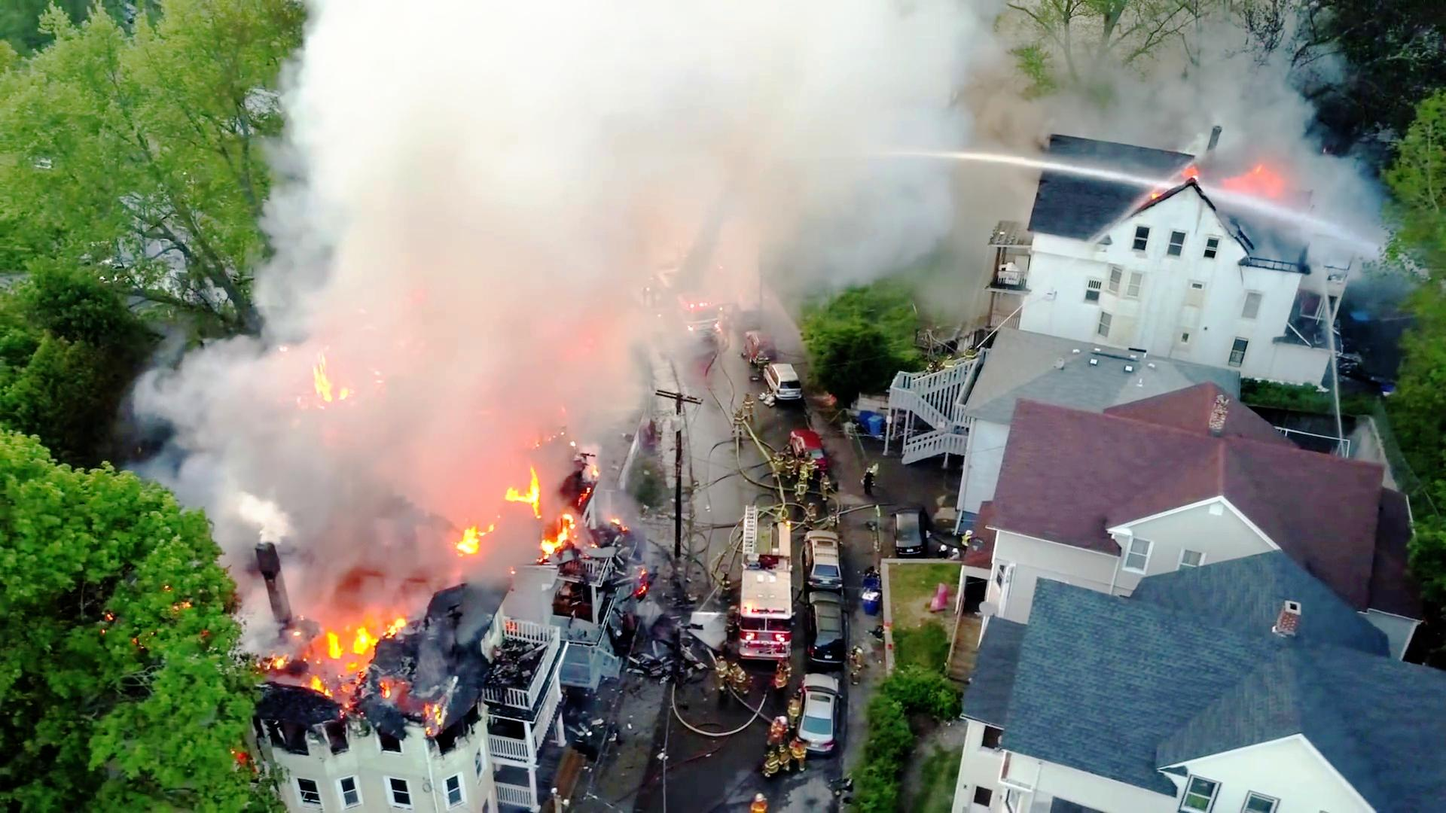fire: (501, 473, 584, 565), (314, 612, 409, 688), (301, 356, 366, 411)
smoke: (345, 0, 920, 240)
